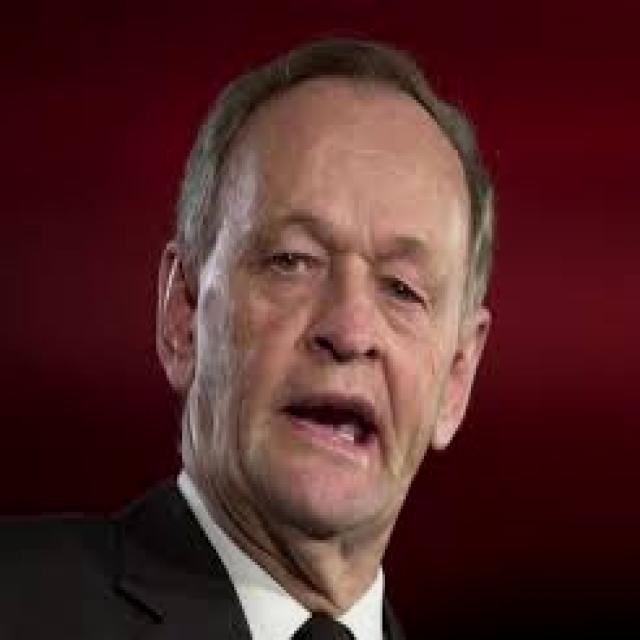stroke_face: (145, 60, 499, 554)
